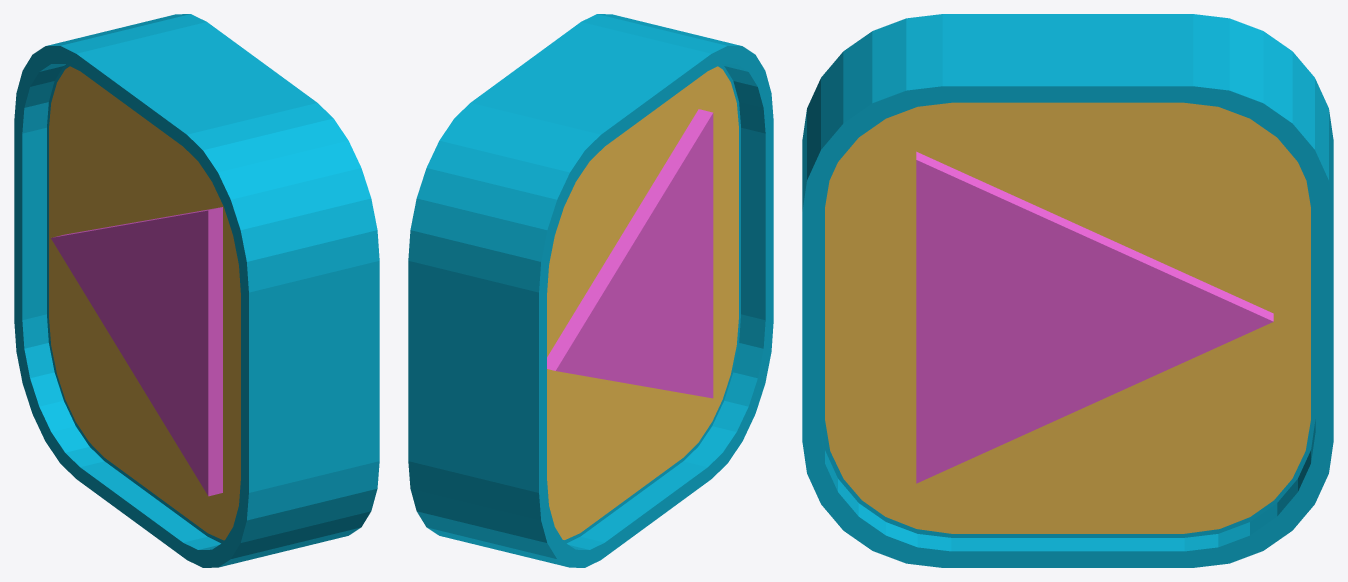
Rendered from Play.glb.
3 views of the same model, side by side, from view 1: azimuth 30°, elevation 25°; view 2: azimuth 150°, elevation 25°; view 3: azimuth 270°, elevation 25° (orthographic). The views are drawn at different scales.
Visible parts, largest first — view 1: Button, Play; view 2: Button, Play; view 3: Button, Play.
Part boxes in pixels (bbox=[...]): Button: bbox=[14, 14, 379, 567]; Play: bbox=[51, 207, 222, 496]; Button: bbox=[408, 14, 773, 567]; Play: bbox=[547, 109, 713, 398]; Button: bbox=[802, 14, 1333, 567]; Play: bbox=[916, 151, 1273, 483].
Bounding box in the file's own units: 0.4785 × 1.49 × 1.49.
